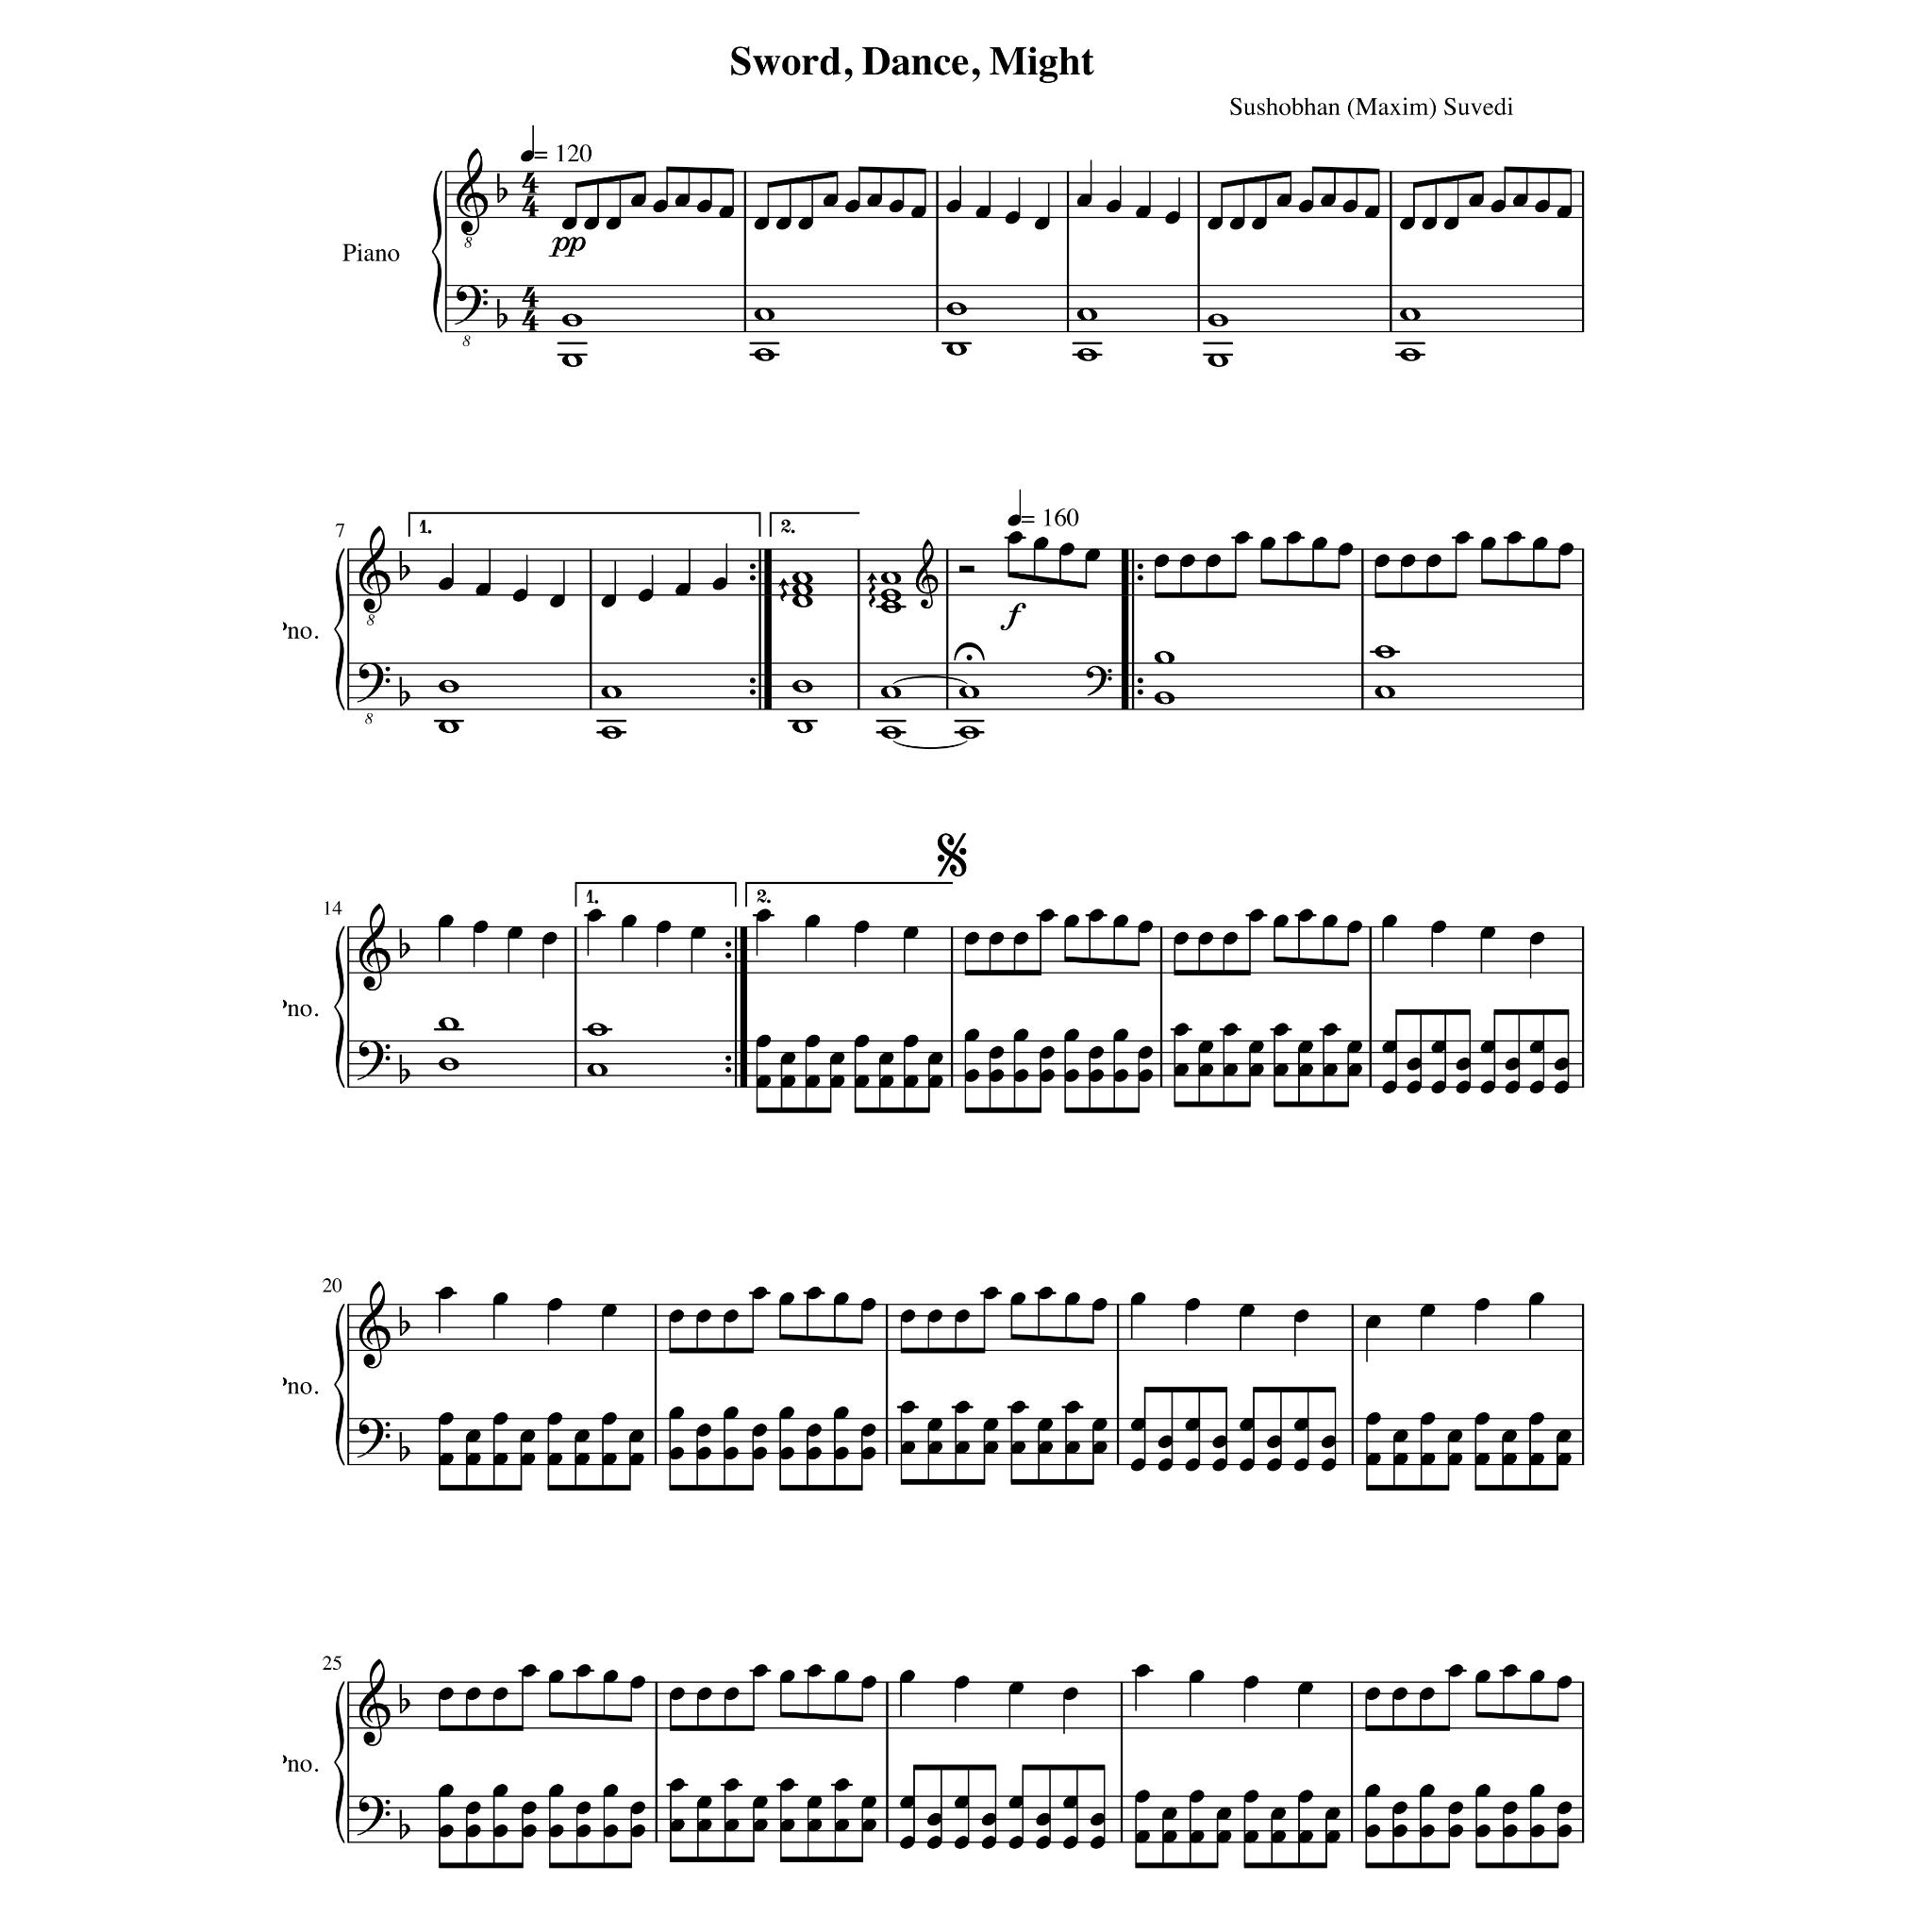brace: (333, 548, 345, 711), (333, 1304, 345, 1467), (333, 1681, 345, 1844), (333, 927, 345, 1088), (432, 170, 442, 333)
fClef: (453, 285, 488, 326), (357, 663, 391, 704), (357, 1040, 391, 1081), (357, 1419, 391, 1460), (357, 1796, 391, 1836)
gClef: (456, 149, 488, 237), (359, 525, 391, 614), (359, 902, 391, 991), (359, 1281, 391, 1369), (359, 1658, 391, 1746)
noteheadBlack: (1511, 195, 1529, 209), (1341, 200, 1359, 214), (844, 200, 862, 214), (1284, 531, 1302, 545), (474, 582, 492, 596), (1454, 1056, 1472, 1070), (1184, 1458, 1201, 1472), (1184, 1417, 1201, 1431), (573, 1453, 591, 1467), (1242, 1829, 1260, 1844), (1242, 1789, 1260, 1803), (602, 1824, 619, 1838), (602, 1783, 619, 1798), (1076, 195, 1092, 209), (1320, 195, 1336, 209), (1299, 200, 1315, 214), (1276, 195, 1292, 209), (1106, 200, 1122, 214), (1136, 205, 1152, 219), (1164, 211, 1180, 225), (1557, 205, 1573, 219), (1534, 200, 1550, 214), (1490, 200, 1506, 214), (1468, 195, 1484, 209), (1364, 205, 1380, 219), (718, 205, 734, 219), (695, 200, 711, 214), (674, 195, 690, 209), (653, 200, 669, 214), (630, 195, 646, 209), (911, 205, 927, 219), (888, 200, 904, 214), (975, 205, 991, 219), (947, 200, 962, 214), (823, 195, 839, 209), (867, 195, 883, 209), (1005, 211, 1021, 225), (1311, 536, 1327, 550), (1205, 554, 1221, 568), (1180, 554, 1196, 568), (1260, 536, 1276, 550), (1235, 531, 1251, 545), (1085, 548, 1100, 563), (1058, 543, 1074, 557), (1033, 536, 1049, 550), (1007, 531, 1023, 545), (1154, 554, 1169, 568), (1532, 536, 1548, 550), (1506, 531, 1522, 545), (1481, 536, 1497, 550), (1375, 554, 1391, 568), (1338, 543, 1353, 557), (1454, 531, 1470, 545), (1426, 554, 1442, 568), (1399, 554, 1415, 568), (711, 577, 727, 591), (676, 582, 692, 596), (437, 577, 453, 591), (1088, 1069, 1104, 1083), (1249, 1040, 1265, 1054), (1223, 932, 1238, 947), (1297, 1040, 1313, 1054), (1138, 1046, 1154, 1060), (1173, 932, 1189, 947), (1113, 1028, 1129, 1042), (1138, 920, 1154, 934), (1138, 1069, 1154, 1083), (1198, 932, 1214, 947), (1198, 1040, 1214, 1054), (1088, 1046, 1104, 1060), (1113, 1069, 1129, 1083), (1529, 1040, 1545, 1054), (1504, 1056, 1520, 1070), (1529, 932, 1545, 947), (1479, 1040, 1495, 1054), (1553, 1056, 1569, 1070), (1382, 1040, 1398, 1054), (1346, 920, 1362, 934), (1346, 1040, 1362, 1054), (1431, 920, 1447, 934), (1431, 1040, 1447, 1054), (1407, 1056, 1422, 1070), (655, 920, 671, 934), (472, 920, 488, 934), (541, 932, 557, 947), (989, 932, 1005, 947), (989, 1069, 1005, 1083), (989, 1046, 1005, 1060), (1012, 932, 1028, 947), (1012, 1069, 1028, 1083), (1012, 1028, 1028, 1042), (1063, 1069, 1079, 1083), (1063, 1028, 1079, 1042), (1039, 1069, 1054, 1083), (1039, 1046, 1054, 1060), (853, 920, 869, 934), (964, 1028, 980, 1042), (964, 1069, 980, 1083), (964, 932, 980, 947), (1131, 1417, 1146, 1431), (1157, 1458, 1173, 1472), (1131, 1458, 1146, 1472), (1238, 1458, 1254, 1472), (1238, 1417, 1254, 1431), (1212, 1458, 1228, 1472), (1010, 1292, 1026, 1306), (1010, 1440, 1026, 1454), (1037, 1286, 1053, 1300), (1037, 1440, 1053, 1454), (1037, 1417, 1053, 1431), (982, 1417, 998, 1431), (982, 1286, 998, 1300), (982, 1440, 998, 1454), (1131, 1292, 1146, 1306), (1065, 1292, 1081, 1306), (1065, 1440, 1081, 1454), (1529, 1453, 1545, 1467), (1502, 1453, 1518, 1467), (1529, 1292, 1545, 1306), (1529, 1412, 1545, 1426), (1474, 1412, 1490, 1426), (1474, 1453, 1490, 1467), (1555, 1453, 1571, 1467), (1447, 1453, 1463, 1467), (1366, 1315, 1382, 1329), (1320, 1458, 1336, 1472), (1366, 1453, 1382, 1467), (1366, 1412, 1382, 1426), (1293, 1417, 1309, 1431), (1293, 1309, 1309, 1323), (1293, 1458, 1309, 1472), (1419, 1453, 1435, 1467), (1419, 1412, 1435, 1426), (1265, 1458, 1281, 1472), (1392, 1453, 1408, 1467), (628, 1453, 644, 1467), (669, 1309, 685, 1323), (669, 1447, 685, 1461), (602, 1453, 617, 1467), (602, 1412, 617, 1426), (695, 1309, 711, 1323), (695, 1447, 711, 1461), (724, 1309, 740, 1323), (437, 1453, 453, 1467), (437, 1286, 453, 1300), (437, 1412, 453, 1426), (520, 1453, 536, 1467), (547, 1453, 563, 1467), (547, 1412, 563, 1426), (492, 1292, 508, 1306), (465, 1453, 481, 1467), (492, 1453, 508, 1467), (492, 1412, 508, 1426), (899, 1440, 915, 1454), (899, 1309, 915, 1323), (724, 1447, 740, 1461), (833, 1447, 849, 1461), (860, 1447, 876, 1461), (927, 1417, 943, 1431), (927, 1440, 943, 1454), (954, 1309, 970, 1323), (954, 1440, 970, 1454), (927, 1309, 943, 1323), (778, 1447, 794, 1461), (778, 1292, 794, 1306), (752, 1286, 768, 1300), (752, 1447, 768, 1461), (833, 1292, 849, 1306), (805, 1447, 821, 1461), (805, 1286, 821, 1300), (1215, 1829, 1231, 1844), (1215, 1806, 1231, 1821), (1162, 1829, 1178, 1844), (1162, 1806, 1178, 1821), (1189, 1829, 1205, 1844), (1189, 1789, 1205, 1803), (1297, 1681, 1313, 1695), (1297, 1829, 1313, 1844), (1297, 1789, 1313, 1803), (1323, 1829, 1339, 1844), (1323, 1806, 1339, 1821), (954, 1835, 970, 1849), (1270, 1829, 1286, 1844), (1270, 1806, 1286, 1821), (1008, 1681, 1024, 1695), (1008, 1835, 1024, 1849), (1008, 1794, 1024, 1808), (1035, 1835, 1051, 1849), (954, 1794, 970, 1808), (980, 1835, 996, 1849), (1134, 1829, 1150, 1844), (1134, 1789, 1150, 1803), (1063, 1835, 1079, 1849), (1063, 1794, 1079, 1808), (1090, 1835, 1106, 1849), (1530, 1824, 1546, 1838), (1530, 1783, 1546, 1798), (1557, 1824, 1573, 1838), (1502, 1824, 1518, 1838), (1392, 1824, 1408, 1838), (1447, 1824, 1463, 1838), (1476, 1824, 1491, 1838), (1476, 1783, 1491, 1798), (1419, 1824, 1435, 1838), (1419, 1783, 1435, 1798), (548, 1824, 564, 1838), (548, 1783, 564, 1798), (575, 1824, 591, 1838), (630, 1824, 646, 1838), (669, 1778, 685, 1792), (437, 1824, 453, 1838), (437, 1783, 453, 1798), (522, 1824, 538, 1838), (465, 1824, 481, 1838), (492, 1824, 508, 1838), (492, 1783, 508, 1798), (833, 1778, 849, 1792), (807, 1794, 823, 1808), (862, 1794, 878, 1808), (925, 1835, 941, 1849), (724, 1778, 740, 1792), (695, 1794, 711, 1808), (780, 1778, 796, 1792), (752, 1794, 768, 1808), (1228, 218, 1246, 230), (1454, 1081, 1472, 1093), (1184, 1299, 1201, 1311), (573, 1430, 591, 1442), (1242, 1675, 1260, 1688), (602, 1670, 619, 1683), (1559, 543, 1573, 557), (1092, 1440, 1106, 1454), (1092, 1417, 1106, 1431), (1366, 1824, 1380, 1838), (1366, 1783, 1380, 1798), (901, 1835, 915, 1849), (901, 1794, 915, 1808), (1251, 218, 1267, 230), (1207, 218, 1223, 230), (1399, 218, 1415, 230), (1444, 218, 1460, 230), (1421, 218, 1437, 230), (754, 218, 770, 230), (561, 218, 577, 230), (582, 218, 598, 230), (605, 218, 621, 230), (798, 218, 814, 230), (1033, 218, 1049, 230), (775, 218, 791, 230), (550, 594, 566, 607), (637, 589, 653, 602), (511, 589, 527, 602), (1249, 909, 1265, 922), (1249, 1063, 1265, 1076), (1223, 1063, 1238, 1076), (1223, 1023, 1238, 1035), (1297, 909, 1313, 922), (1297, 1063, 1313, 1076), (1322, 915, 1338, 927), (1322, 1063, 1338, 1076), (1322, 1023, 1338, 1035), (1088, 909, 1104, 922), (1274, 1023, 1290, 1035), (1274, 1063, 1290, 1076), (1274, 915, 1290, 927), (1173, 1063, 1189, 1076), (1173, 1023, 1189, 1035), (1113, 915, 1129, 927), (1198, 1063, 1214, 1076), (1529, 1081, 1545, 1093), (1504, 1081, 1520, 1093), (1479, 927, 1495, 939), (1479, 1081, 1495, 1093), (1553, 1081, 1569, 1093), (1382, 915, 1398, 927), (1382, 1081, 1398, 1093), (1346, 1063, 1362, 1076), (1431, 1081, 1447, 1093), (1407, 1081, 1422, 1093), (755, 909, 771, 922), (755, 1076, 771, 1088), (755, 1035, 771, 1047), (690, 927, 706, 939), (621, 915, 637, 927), (805, 915, 821, 927), (805, 1076, 821, 1088), (805, 1035, 821, 1047), (828, 1076, 844, 1088), (828, 1053, 844, 1065), (780, 1076, 796, 1088), (780, 1053, 796, 1065), (437, 915, 453, 927), (586, 909, 602, 922), (508, 927, 524, 939), (1063, 915, 1079, 927), (1039, 909, 1054, 922), (927, 1053, 943, 1065), (927, 1076, 943, 1088), (878, 1053, 893, 1065), (902, 927, 918, 939), (902, 1035, 918, 1047), (902, 1076, 918, 1088), (878, 1076, 893, 1088), (853, 1076, 869, 1088), (853, 1035, 869, 1047), (1157, 1437, 1173, 1449), (1238, 1304, 1254, 1316), (1212, 1437, 1228, 1449), (1010, 1401, 1026, 1414), (1065, 1401, 1081, 1414), (1502, 1430, 1518, 1442), (1447, 1430, 1463, 1442), (1474, 1299, 1490, 1311), (1555, 1430, 1571, 1442), (1320, 1437, 1336, 1449), (1265, 1437, 1281, 1449), (1419, 1304, 1435, 1316), (1392, 1430, 1408, 1442), (628, 1430, 644, 1442), (669, 1407, 685, 1419), (602, 1304, 617, 1316), (695, 1424, 711, 1437), (520, 1430, 536, 1442), (547, 1299, 563, 1311), (465, 1430, 481, 1442), (899, 1401, 915, 1414), (833, 1407, 849, 1419), (860, 1299, 876, 1311), (860, 1424, 876, 1437), (954, 1401, 970, 1414), (724, 1407, 740, 1419), (778, 1407, 794, 1419), (752, 1424, 768, 1437), (805, 1424, 821, 1437), (1189, 1670, 1205, 1683), (1035, 1813, 1051, 1826), (980, 1813, 996, 1826), (1134, 1665, 1150, 1677), (1063, 1688, 1079, 1700), (1090, 1813, 1106, 1826), (1530, 1670, 1546, 1683), (1557, 1675, 1573, 1688), (1557, 1801, 1573, 1813), (1502, 1801, 1518, 1813), (1502, 1665, 1518, 1677), (1392, 1688, 1408, 1700), (1392, 1801, 1408, 1813), (1447, 1665, 1463, 1677), (1447, 1801, 1463, 1813), (1476, 1670, 1491, 1683), (1419, 1688, 1435, 1700), (548, 1670, 564, 1683), (575, 1665, 591, 1677), (575, 1801, 591, 1813), (954, 1675, 970, 1688), (630, 1675, 646, 1688), (630, 1801, 646, 1813), (669, 1688, 685, 1700), (669, 1819, 685, 1831), (437, 1688, 453, 1700), (522, 1801, 538, 1813), (522, 1665, 538, 1677), (465, 1688, 481, 1700), (465, 1801, 481, 1813), (492, 1688, 508, 1700), (833, 1670, 849, 1683), (833, 1819, 849, 1831), (807, 1819, 823, 1831), (807, 1665, 823, 1677), (862, 1819, 878, 1831), (862, 1675, 878, 1688), (925, 1813, 941, 1826), (724, 1688, 740, 1700), (724, 1819, 740, 1831), (695, 1819, 711, 1831), (695, 1688, 711, 1700), (780, 1670, 796, 1683), (780, 1819, 796, 1831), (752, 1665, 768, 1677), (752, 1819, 768, 1831), (602, 594, 616, 607), (1092, 1299, 1106, 1311), (1366, 1688, 1380, 1700), (901, 1670, 915, 1683)
noteheadWhole: (600, 725, 623, 740), (957, 725, 980, 740), (1076, 347, 1097, 361), (1076, 308, 1097, 322), (1207, 354, 1228, 368), (1399, 308, 1421, 322), (1399, 347, 1421, 361), (754, 308, 775, 322), (754, 347, 775, 361), (561, 354, 582, 368), (947, 303, 968, 317), (1154, 651, 1175, 665), (1154, 692, 1175, 706), (437, 679, 458, 694), (437, 720, 458, 734), (879, 725, 901, 740), (879, 571, 901, 586), (879, 600, 901, 614), (791, 679, 812, 694), (791, 720, 812, 734), (791, 571, 812, 586), (791, 582, 812, 596), (791, 594, 812, 609), (437, 1056, 458, 1070), (437, 1017, 458, 1031), (600, 686, 623, 699), (957, 686, 980, 699), (586, 1063, 609, 1076), (586, 1023, 609, 1035), (1207, 315, 1228, 327), (561, 315, 582, 327), (947, 343, 968, 356), (1375, 646, 1396, 658), (1375, 686, 1396, 699), (879, 686, 901, 699), (879, 589, 901, 602)
restHalf: (959, 566, 975, 573)
